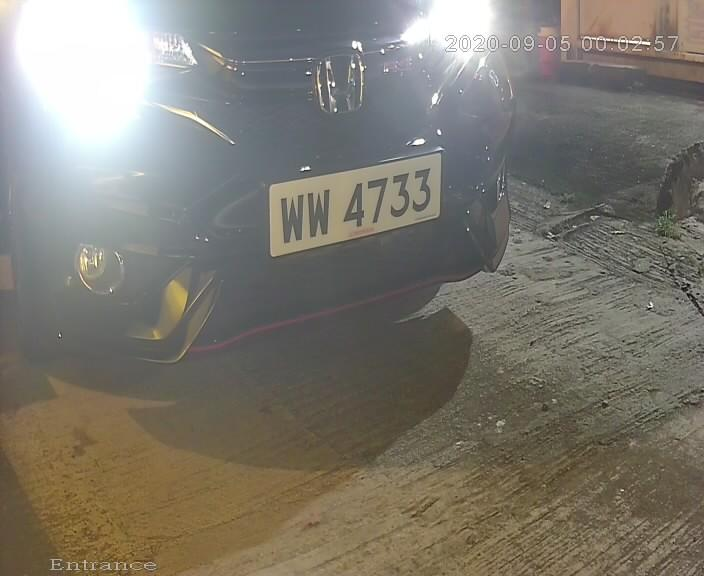License Plate: (265, 147, 444, 268)
